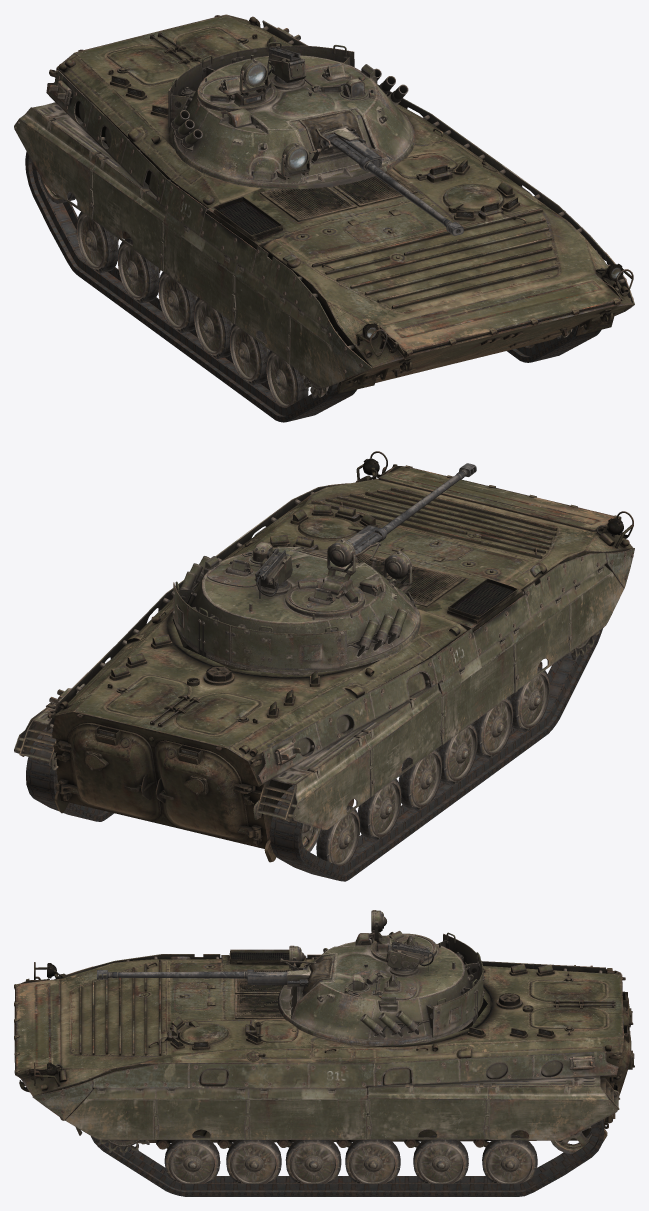
File: bmp2.glb
3 renders of one model, top to bottom at view 1: azimuth 30°, elevation 25°; view 2: azimuth 150°, elevation 25°; view 3: azimuth 270°, elevation 25°, orthographic. The views are drawn at different scales.
Parts seen in each view (by area): view 1: vechicle_BMP2_LOD0_1, vechicle_BMP2_LOD0_2, Turret_LOD0_0, vechicle_BMP2_LOD0_0; view 2: vechicle_BMP2_LOD0_1, vechicle_BMP2_LOD0_2, Turret_LOD0_0, vechicle_BMP2_LOD0_0; view 3: vechicle_BMP2_LOD0_2, vechicle_BMP2_LOD0_1, Turret_LOD0_0, vechicle_BMP2_LOD0_0.
Part boxes in pixels (x1=…): vechicle_BMP2_LOD0_1: x1=49, y1=14, x2=633, y2=393; vechicle_BMP2_LOD0_2: x1=14, y1=20, x2=634, y2=407; Turret_LOD0_0: x1=168, y1=42, x2=463, y2=235; vechicle_BMP2_LOD0_0: x1=25, y1=151, x2=601, y2=422; vechicle_BMP2_LOD0_1: x1=47, y1=451, x2=633, y2=862; vechicle_BMP2_LOD0_2: x1=14, y1=483, x2=634, y2=865; Turret_LOD0_0: x1=172, y1=463, x2=476, y2=675; vechicle_BMP2_LOD0_0: x1=26, y1=628, x2=602, y2=881; vechicle_BMP2_LOD0_2: x1=32, y1=954, x2=619, y2=1183; vechicle_BMP2_LOD0_1: x1=14, y1=949, x2=634, y2=1149; Turret_LOD0_0: x1=97, y1=910, x2=484, y2=1045; vechicle_BMP2_LOD0_0: x1=91, y1=1095, x2=603, y2=1196.
Bounding box in the file's own units: 0.077 × 0.0658 × 0.1735.
3 materials, 3 textured.
